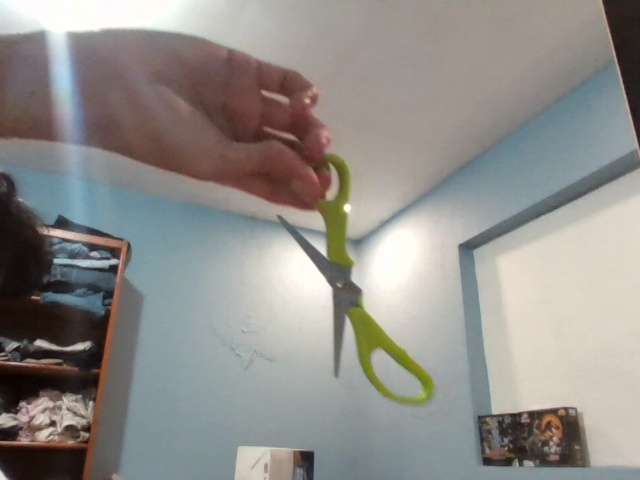tijeras: (279, 149, 438, 408)
